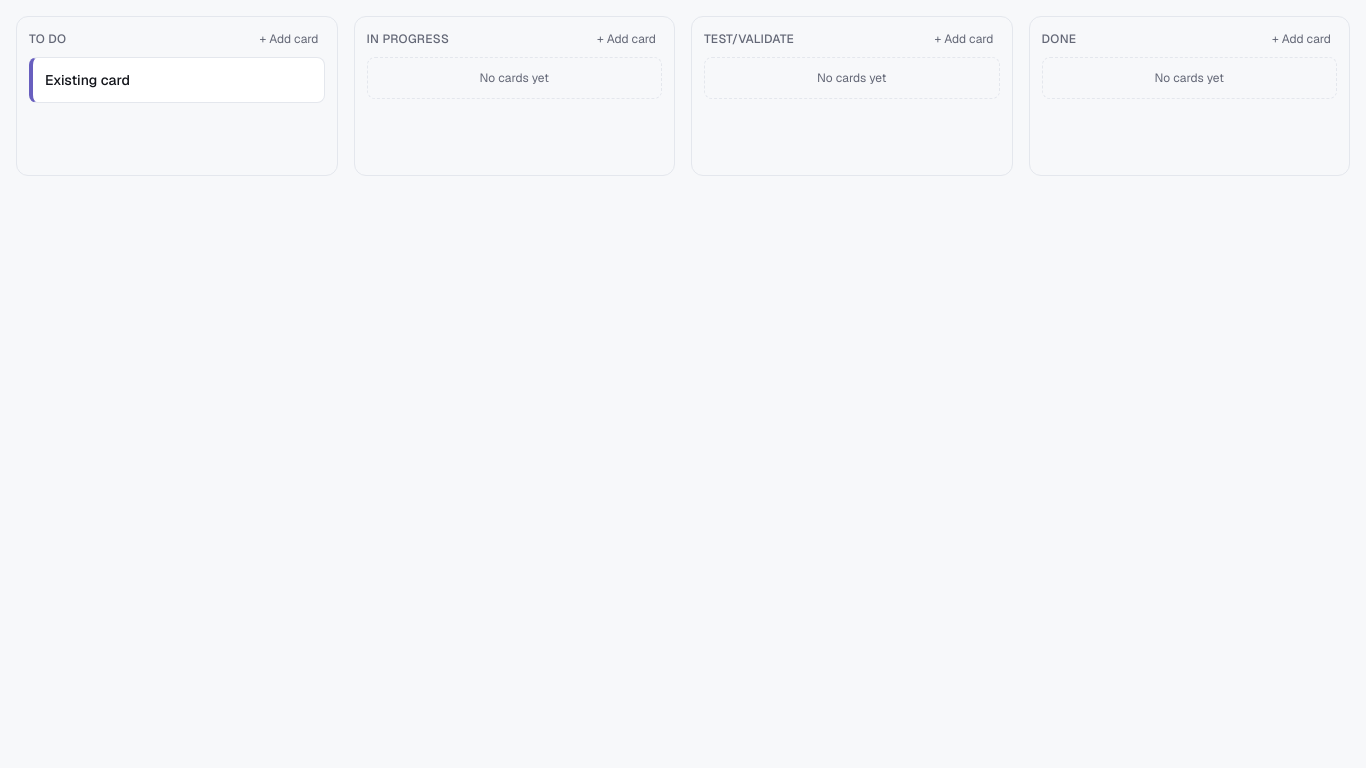
it: Board › deletes a card via the modal's delete button and removes it without a reload
Click the button "Existing card" at (87, 80), box [29, 57, 324, 103]
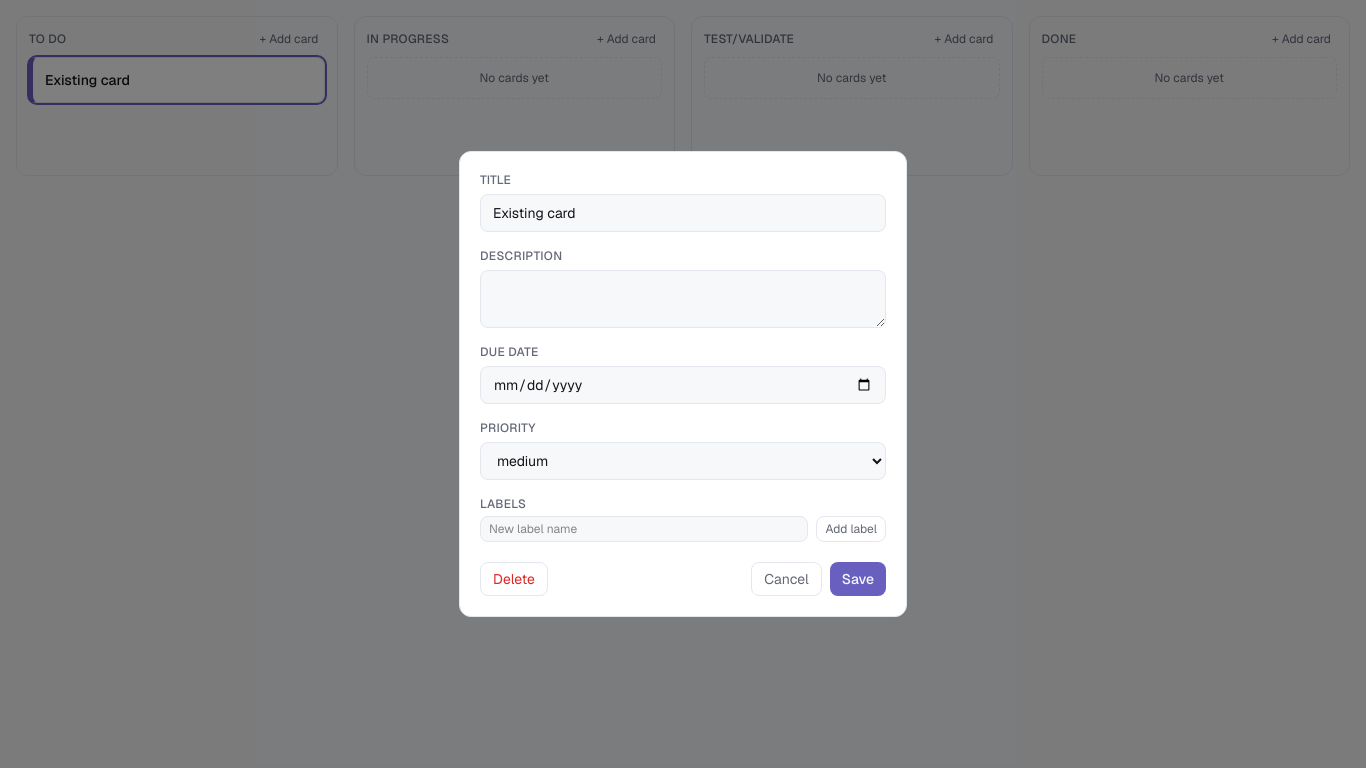
Click the button "Delete" at (514, 579), box [480, 562, 548, 596]
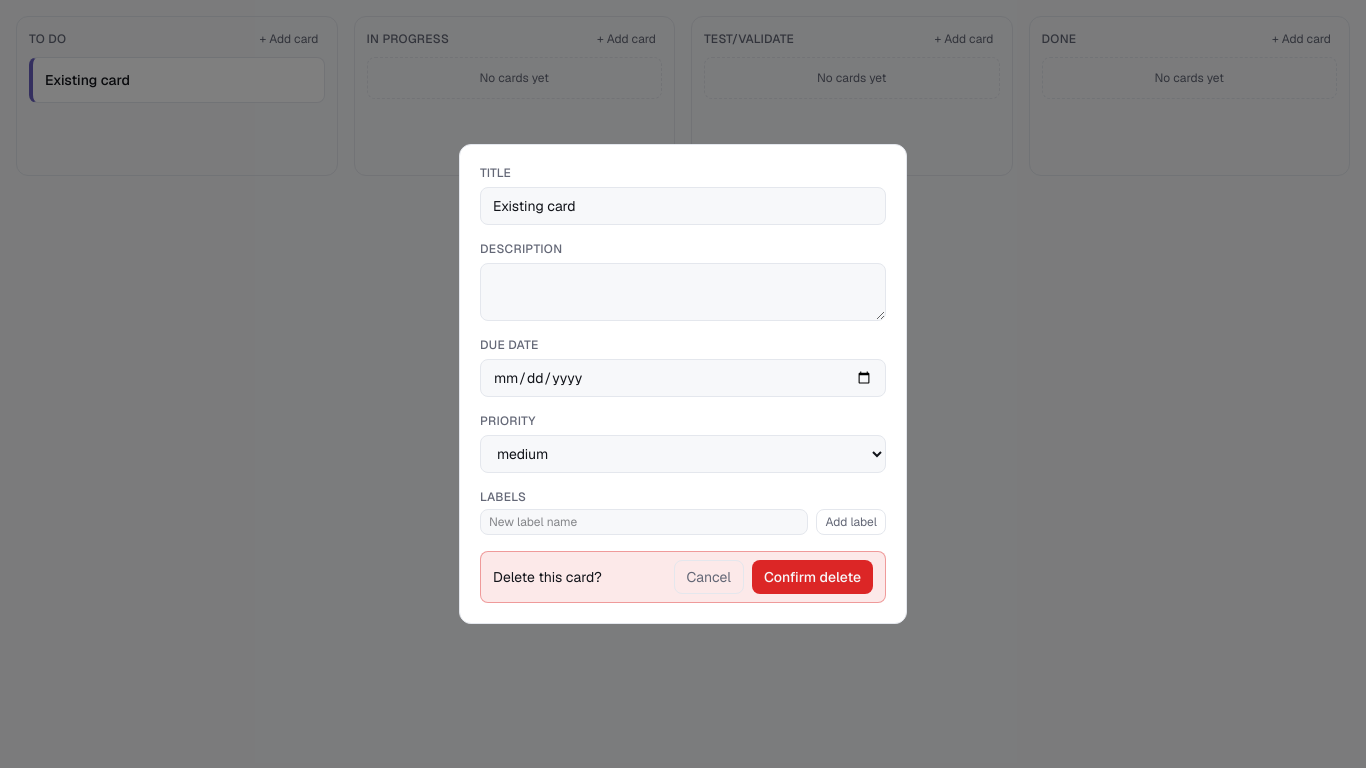
Click the button "Confirm delete" at (812, 577), box [752, 560, 873, 594]
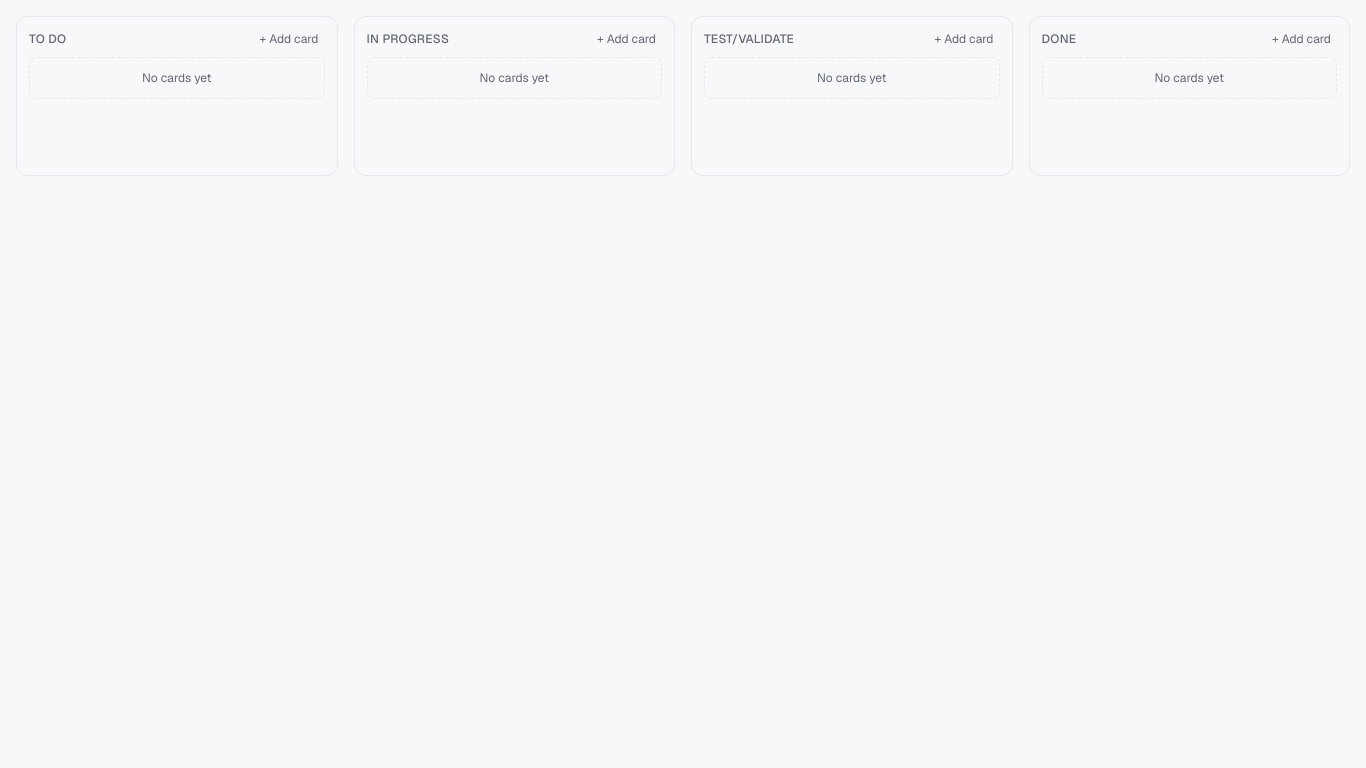
Expected: the button "Existing card" is gone
